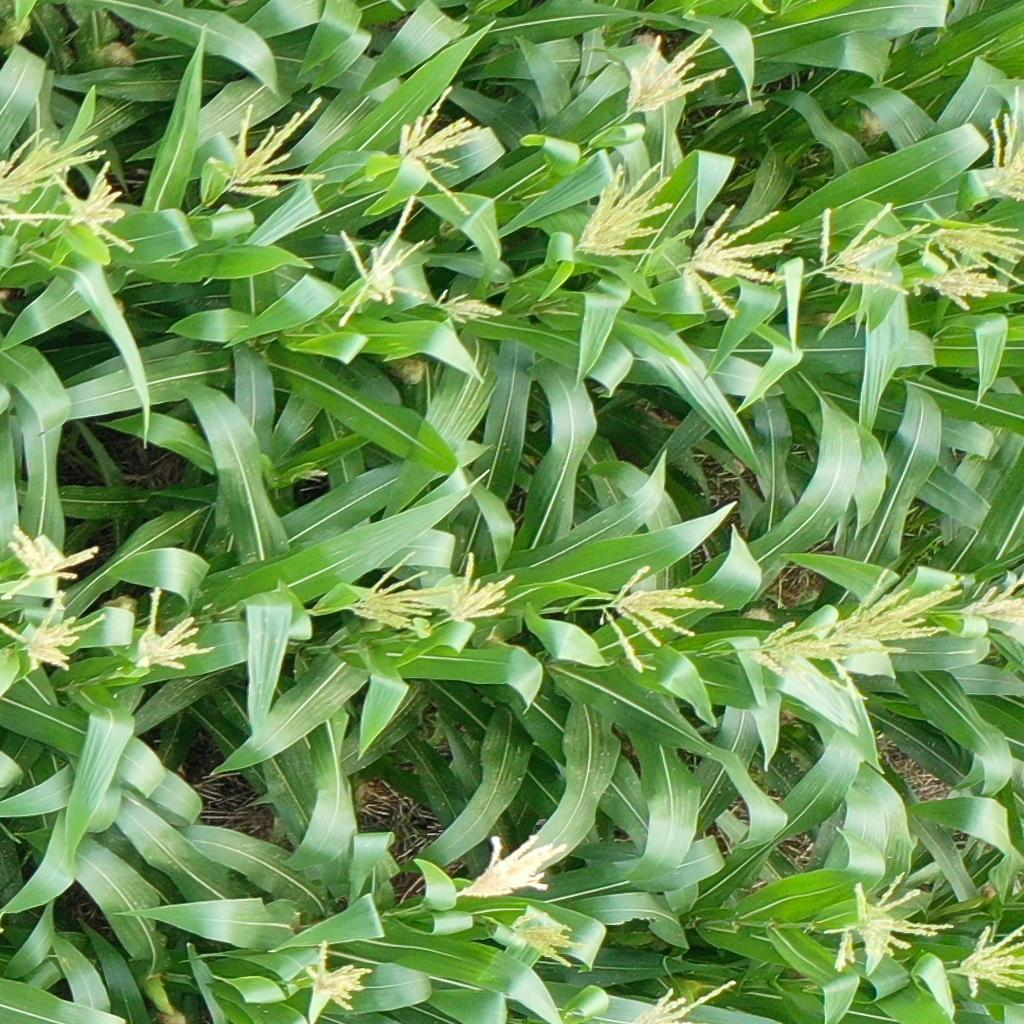Tassel: (602, 561, 725, 678), (823, 871, 954, 972), (679, 206, 797, 318), (208, 97, 333, 198), (336, 195, 430, 328), (753, 620, 905, 700), (806, 201, 933, 295), (399, 86, 482, 217), (1, 131, 109, 231), (831, 568, 967, 646), (343, 548, 456, 633), (577, 161, 674, 260), (621, 28, 727, 117), (53, 160, 139, 256), (1, 593, 105, 672), (454, 834, 570, 900), (1, 527, 102, 601), (131, 588, 213, 678), (919, 220, 1024, 286), (975, 87, 1024, 202), (505, 909, 592, 966), (958, 923, 1024, 998), (306, 941, 374, 1012), (913, 262, 1007, 312), (451, 553, 516, 624), (639, 977, 735, 1024), (431, 288, 506, 326), (964, 585, 1024, 627), (289, 466, 328, 486)
